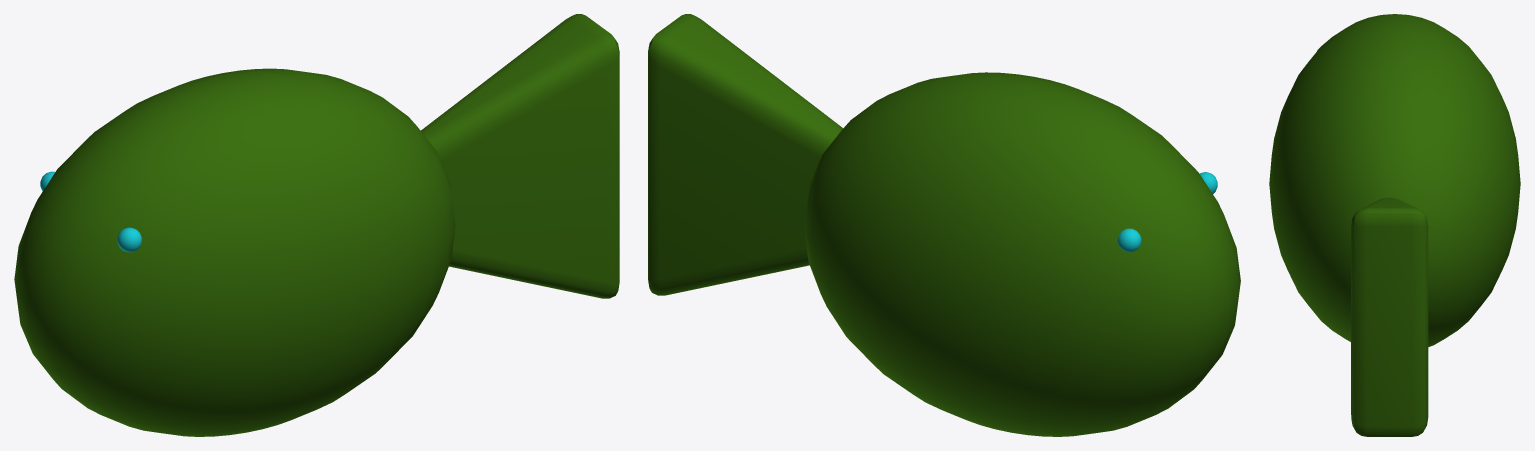
File: poisson.fbx
3 views of the same model, side by side, from view 1: azimuth 30°, elevation 25°; view 2: azimuth 150°, elevation 25°; view 3: azimuth 270°, elevation 25° (orthographic). The views are drawn at different scales.
Visible parts, largest first — view 1: Sphere001; view 2: Sphere001; view 3: Sphere001.
Boxes of the visible parts, box(x1,y1,x2,y2) form: Sphere001: box(14, 14, 619, 436); Sphere001: box(648, 14, 1240, 436); Sphere001: box(1269, 14, 1520, 436).
Bounding box in the file's own units: 5.26 × 2.96 × 2.31.
